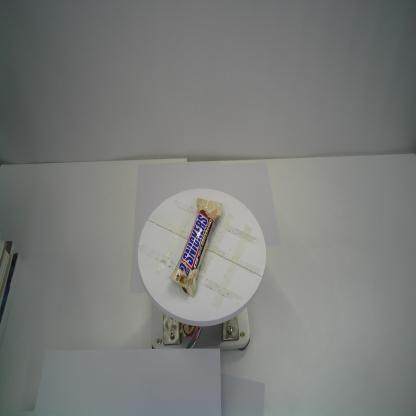Chocolate: (168, 194, 224, 300)
